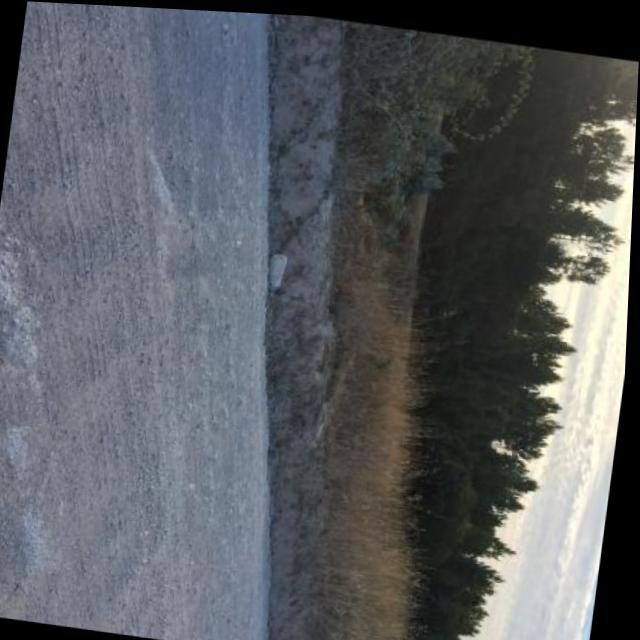plastic: (265, 250, 289, 291)
